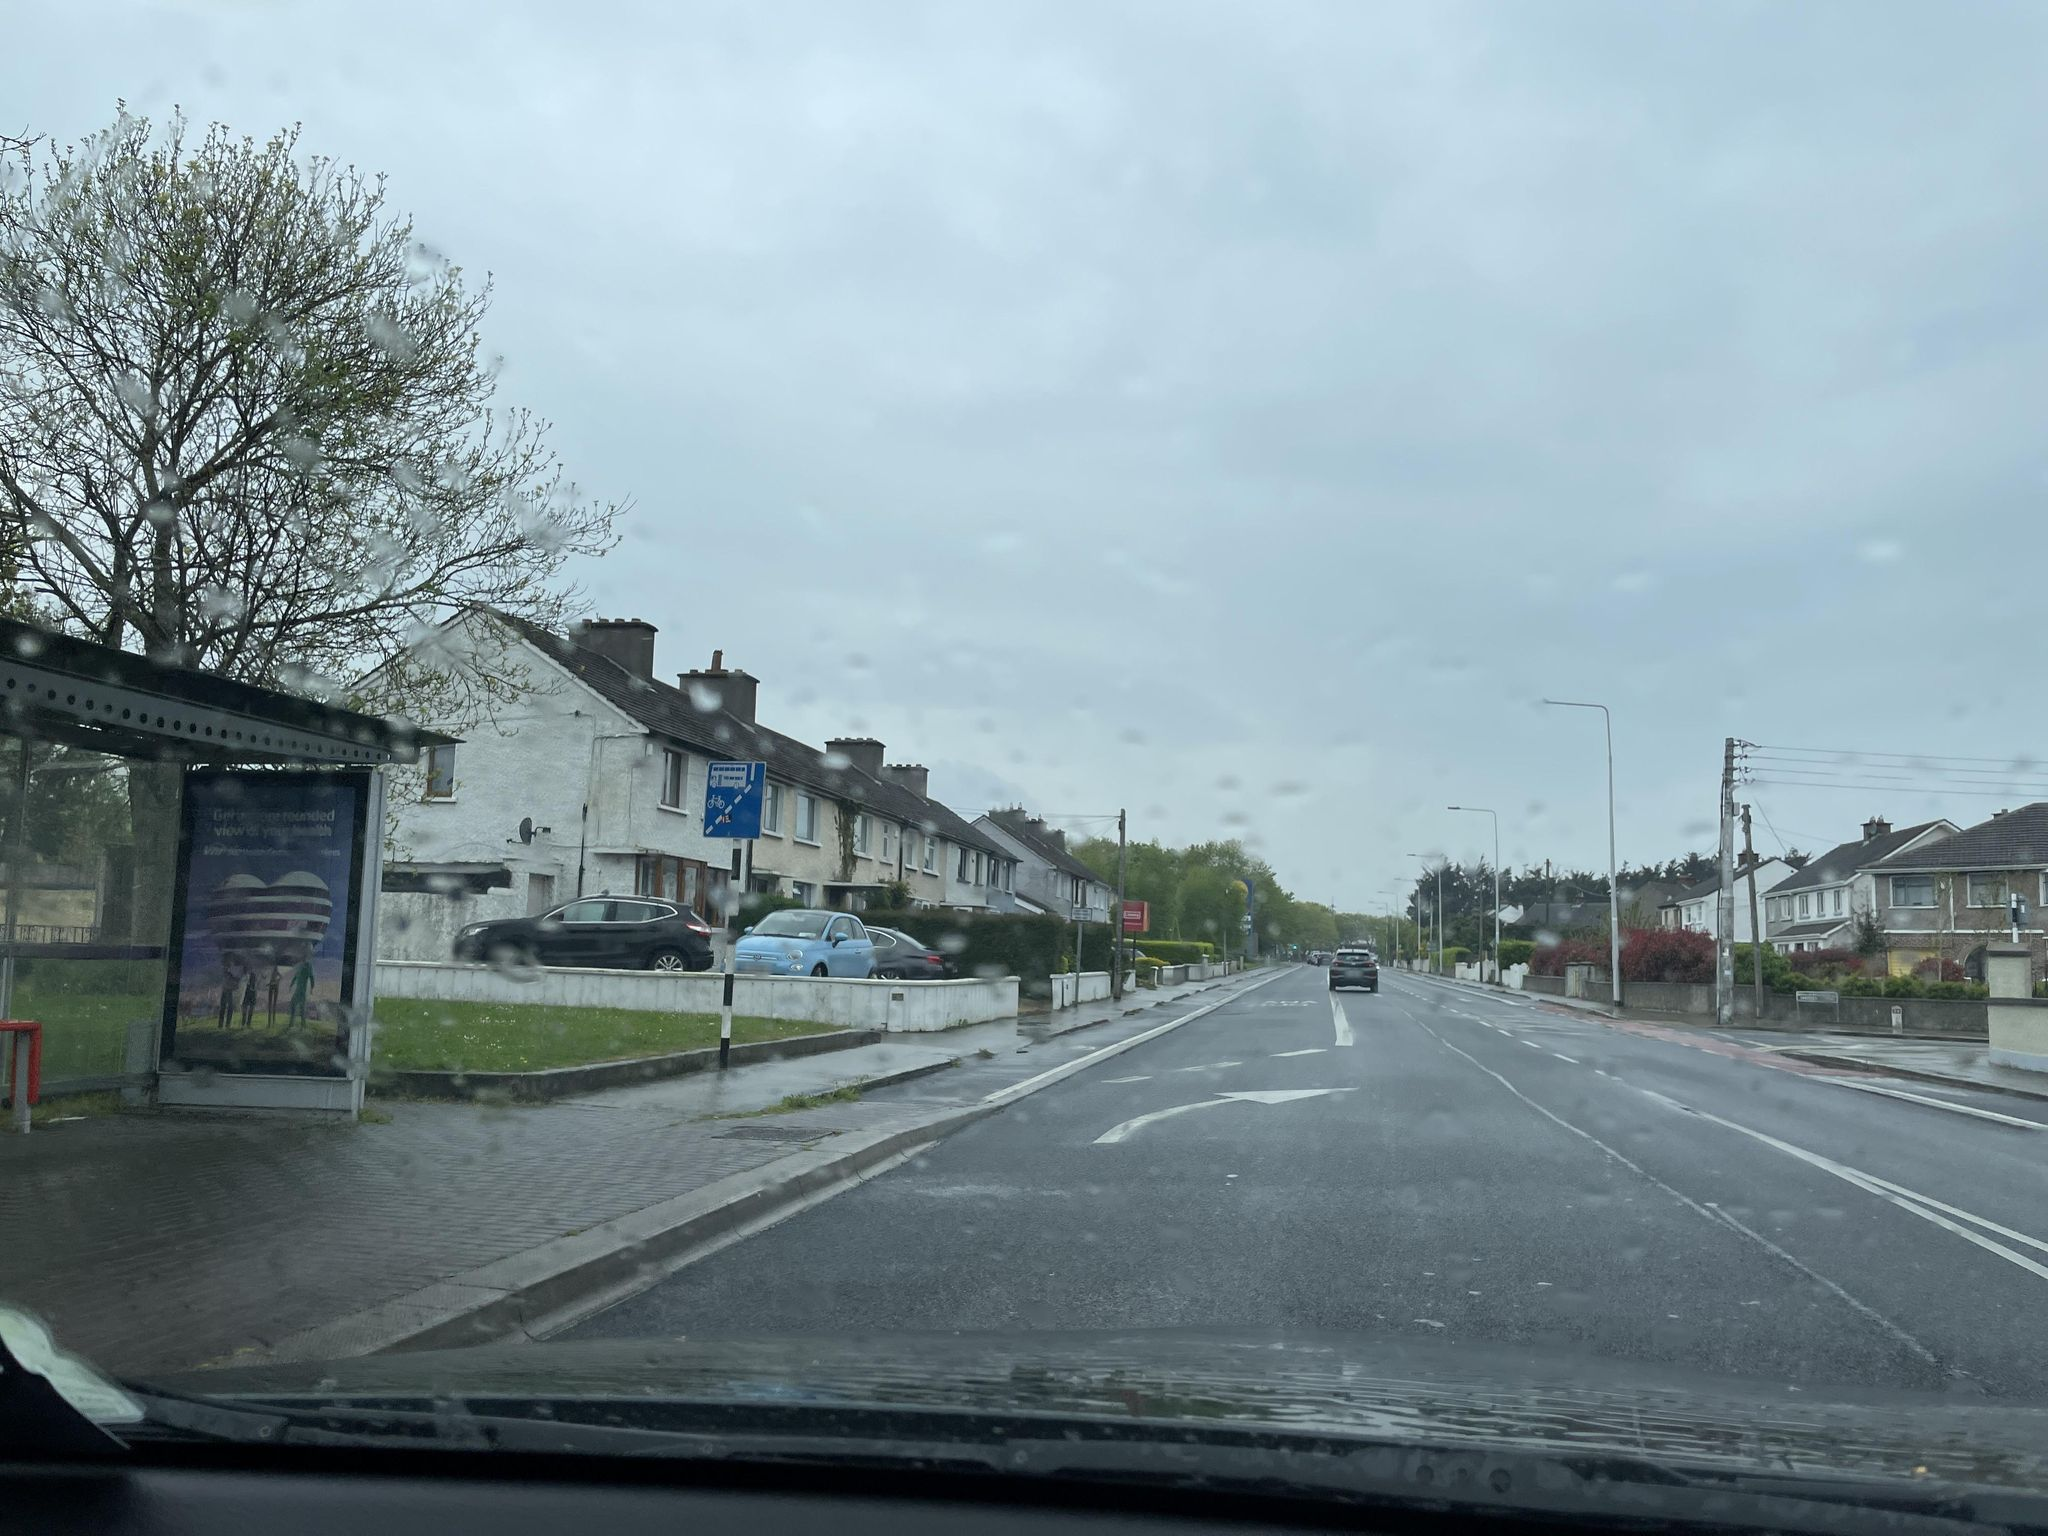property sign: (1103, 887, 1158, 944)
